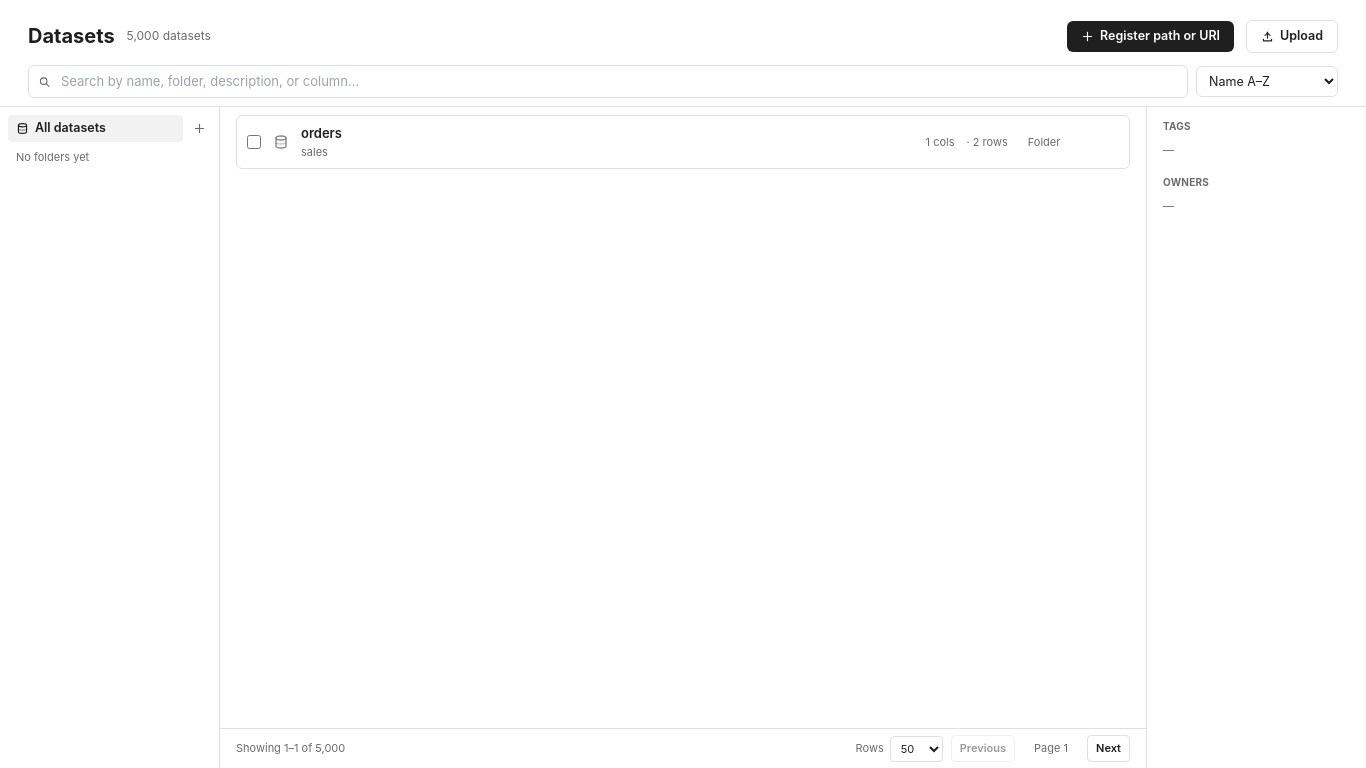
Test: Catalog discovery request and mutation truth › keeps a 5,000-dataset discovery path bounded to pages, facets, and the lazy tree
The width and height of the screenshot is (1366, 768).
Expected: the text "orders" is shown, [301,124,342,144]
Click the button with test id "catalog-next-page": point(1108, 749) [1087,735,1130,762]
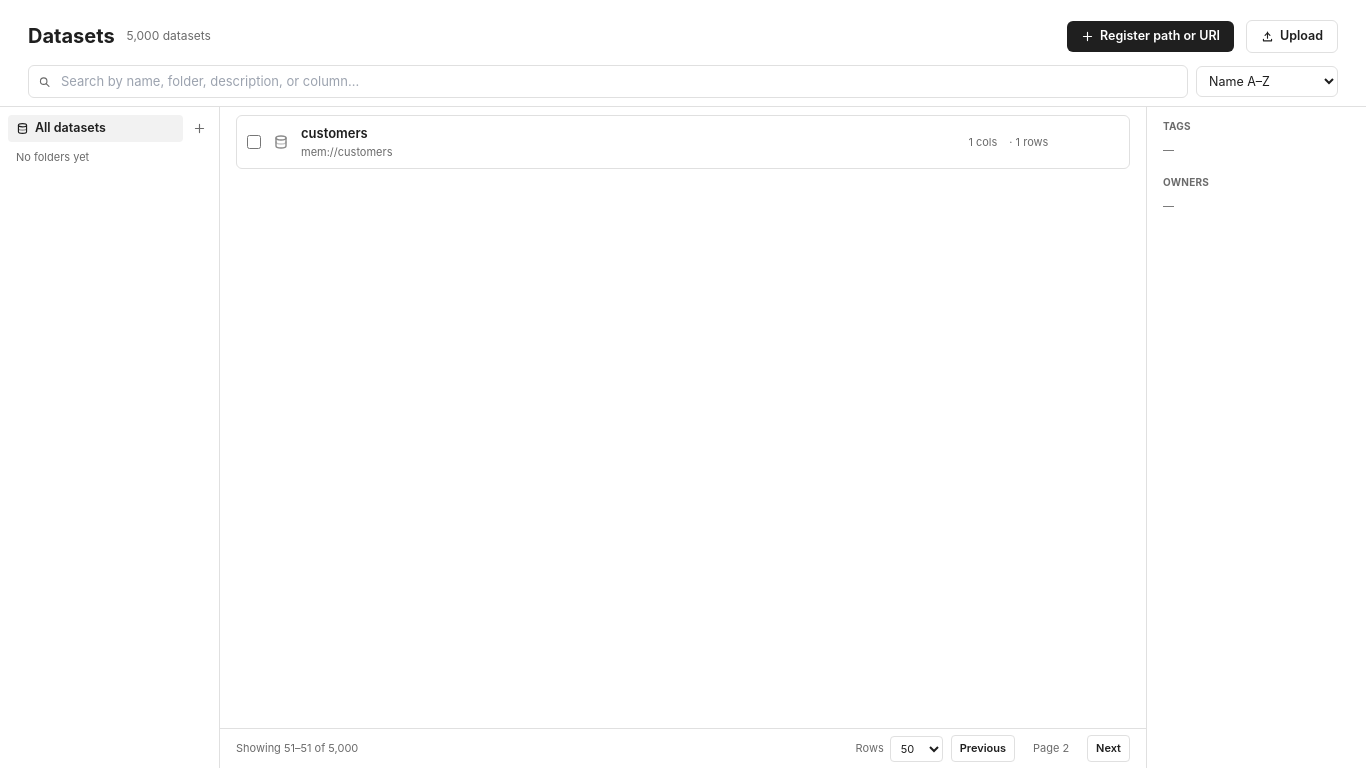
Expected: the text "customers" is shown, [301,124,368,144]
